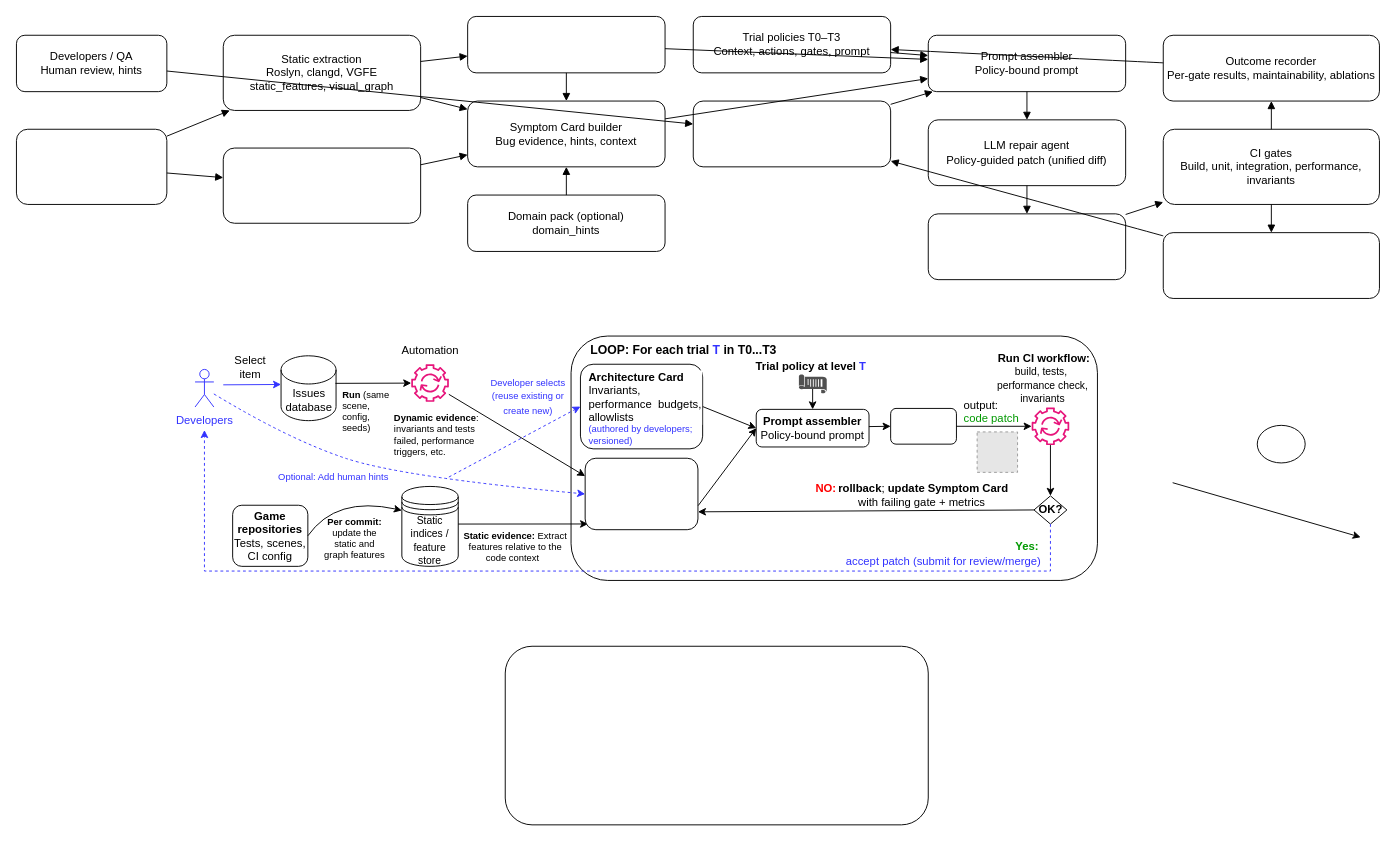
Some shapes in this 1396 by 841 pixel diagram are drawn without their labels. Grey dashed boxes stand in for pictures. Here are the shapes that lost their labels. From the top down, the box of each, then its label:
(467, 16, 665, 73): CodeContext builder primary_files, neighbors
(692, 100, 891, 167): Architecture Card Invariants, perf budgets, allowlists
(16, 128, 167, 204): Game repositories (Unity, UE5) Tests, scenes, CI config
(222, 147, 421, 223): Dynamic harness Tests, scenes, invariants, perf tests_failed, invariants, perf
(927, 213, 1126, 280): Bounded trial loop T0–T3, patch apply, rollback
(1162, 232, 1379, 298): Engineer review Adopt patch, refine policies and hints
(890, 407, 956, 444): LLM repair component
(584, 457, 698, 530): Symptom Card builder Static + dynamic evidence, hints, context
